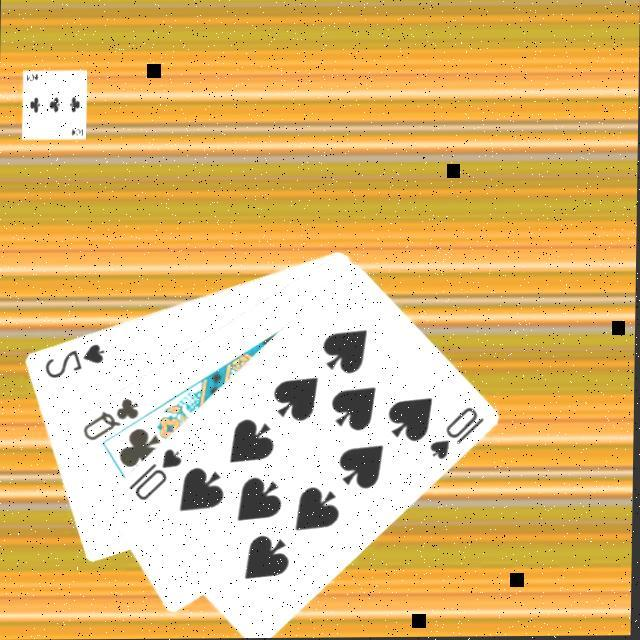10S: (424, 402, 486, 462), (124, 443, 184, 502)
2S: (41, 338, 107, 381)
QC: (76, 392, 142, 443)
